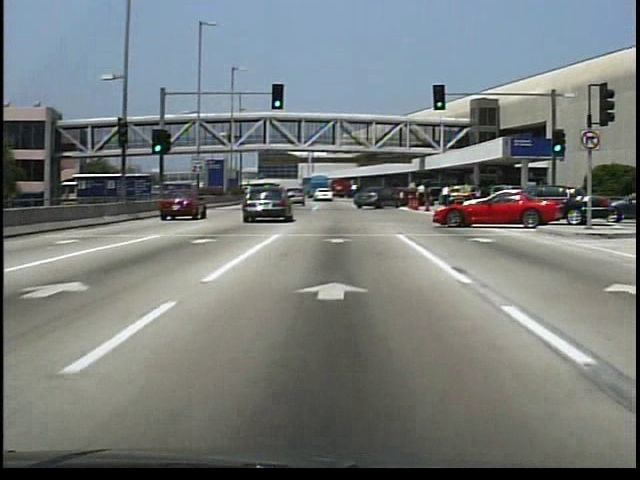person: (413, 175, 429, 205), (440, 174, 453, 198), (225, 125, 233, 141)
